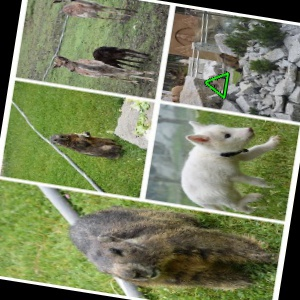triangle: (203, 69, 231, 100)
